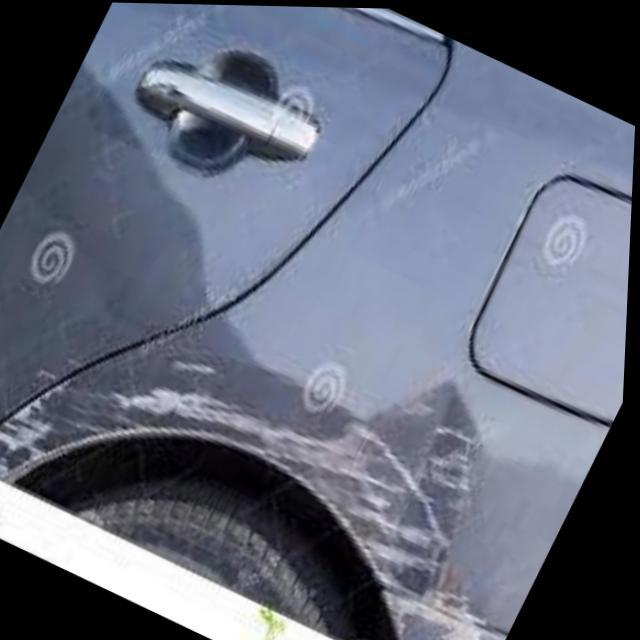rub: (0, 353, 486, 640)
